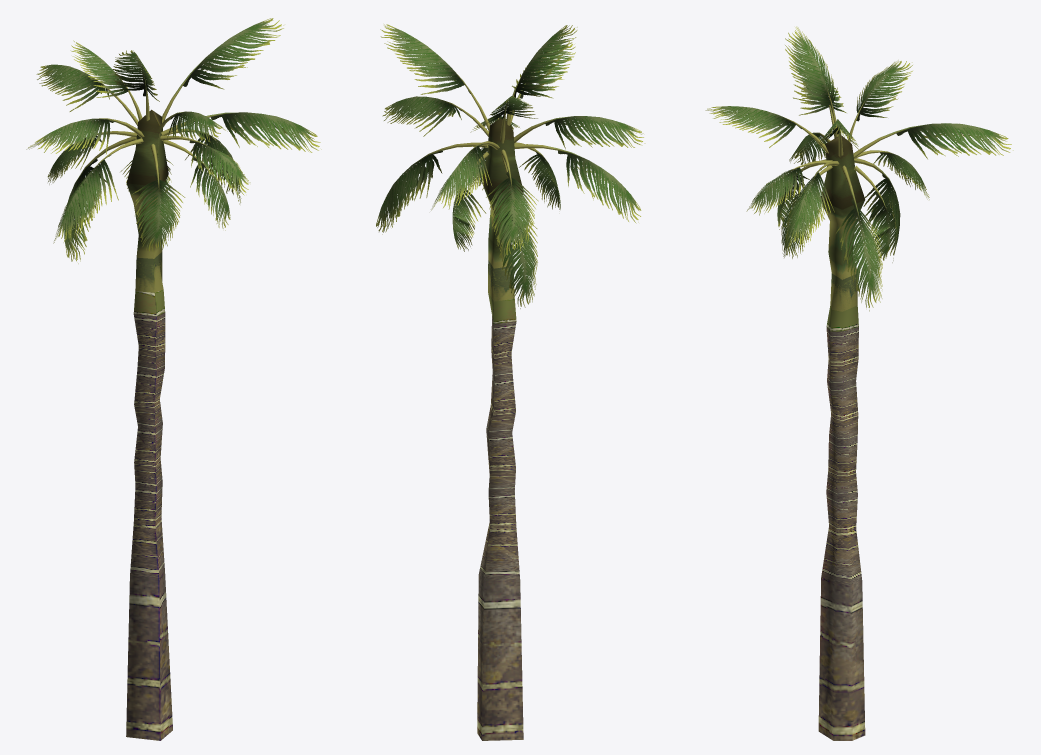
Rendered from palm_royal_1.glb.
The picture shows the model from 3 angles, left to right: view 1: azimuth 30°, elevation 25°; view 2: azimuth 150°, elevation 25°; view 3: azimuth 270°, elevation 25°; orthographic projection. The views are drawn at different scales.
Visible parts, largest first — view 1: palm_royal_1; view 2: palm_royal_1; view 3: palm_royal_1.
Boxes of the visible parts, left/top/right/bottom form: palm_royal_1: left=26, top=18, right=321, bottom=740; palm_royal_1: left=376, top=24, right=645, bottom=740; palm_royal_1: left=705, top=26, right=1013, bottom=740.
Bounding box in the file's own units: 7.21 × 16.36 × 7.2.
Materials: 1 (1 with a texture image).
